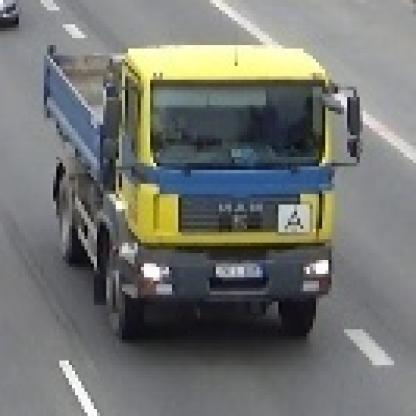truck: (35, 39, 361, 341)
